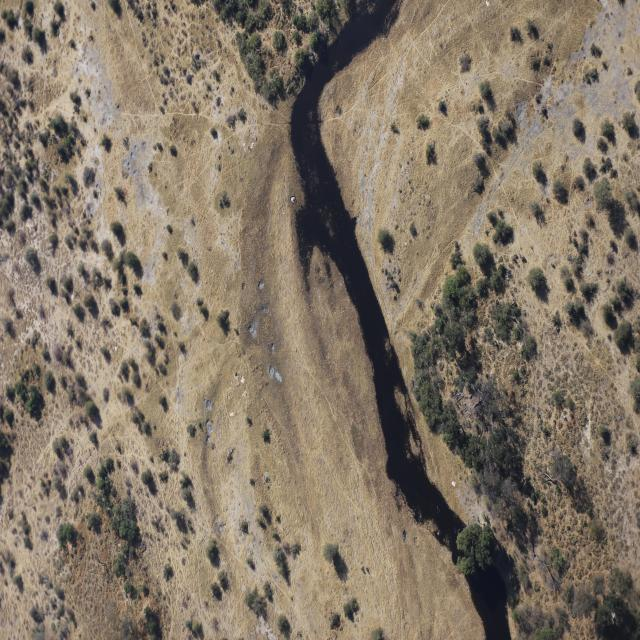elephant: (519, 253, 526, 260), (510, 300, 517, 307), (493, 338, 498, 346), (510, 315, 516, 321), (555, 324, 559, 332), (495, 298, 498, 306), (511, 255, 515, 260), (513, 253, 518, 257), (550, 263, 555, 267)
